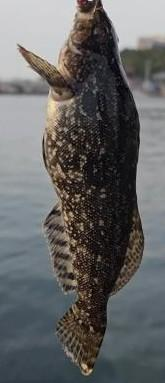fish: (18, 0, 143, 375)
